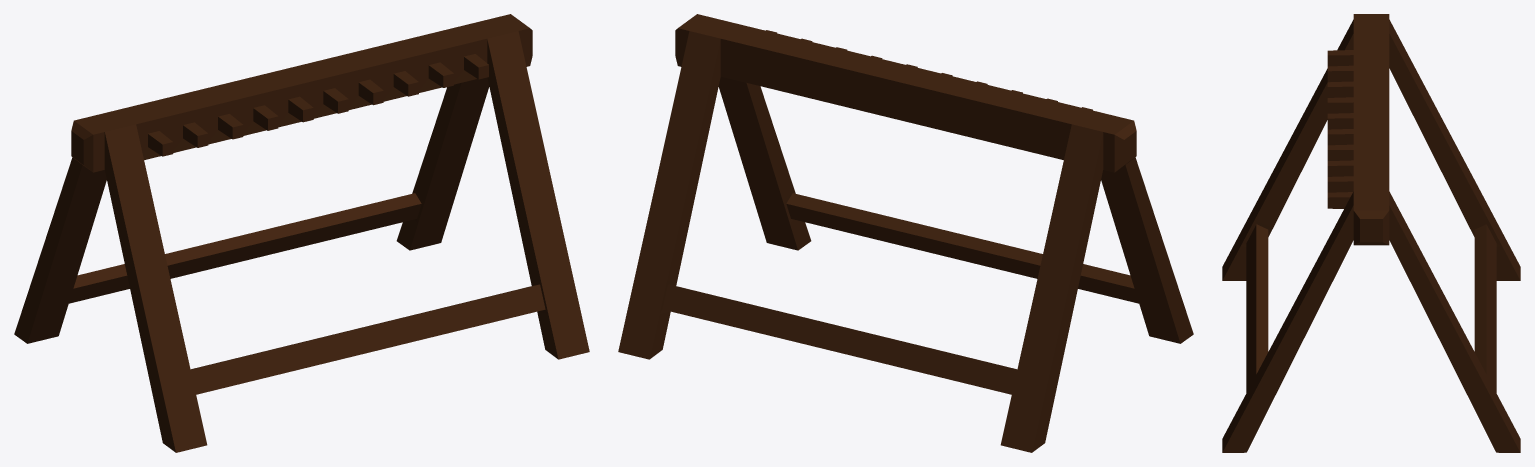
Rendered from SwordHolder_FBX.fbx.
3 views of the same model, side by side, from view 1: azimuth 30°, elevation 25°; view 2: azimuth 150°, elevation 25°; view 3: azimuth 270°, elevation 25° (orthographic). The views are drawn at different scales.
Parts seen in each view (by area): view 1: Sword_Holder; view 2: Sword_Holder; view 3: Sword_Holder.
Part boxes in pixels (<box>): Sword_Holder: <box>14,14,589,452</box>; Sword_Holder: <box>618,14,1193,452</box>; Sword_Holder: <box>1222,14,1520,452</box>.
Size of the model in its own units: 183 by 105 by 114.
